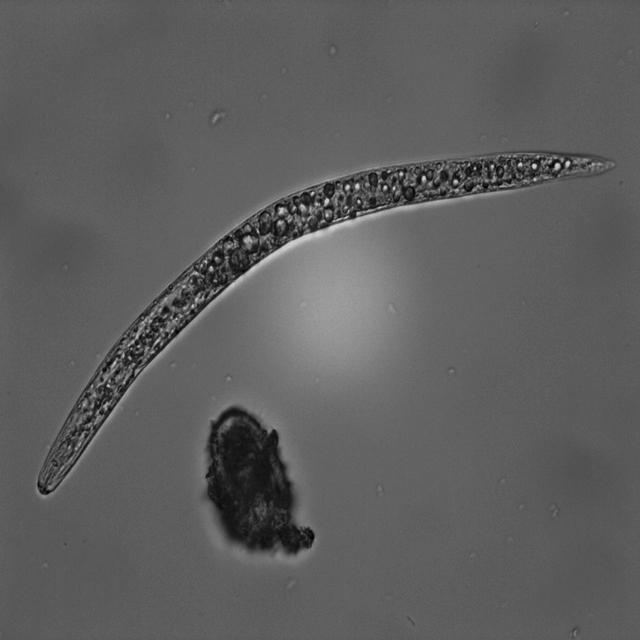Radopholus: (37, 149, 618, 501)
